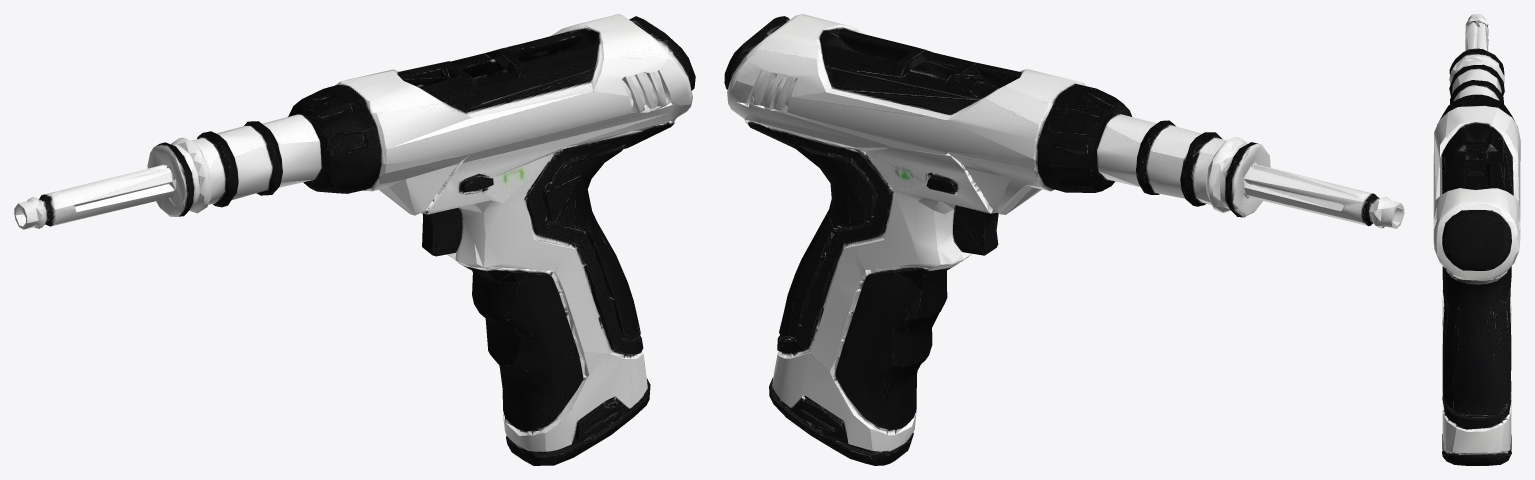
The model's file is w-toolgun.glb.
3 renders of one model, left to right at view 1: azimuth 30°, elevation 25°; view 2: azimuth 150°, elevation 25°; view 3: azimuth 270°, elevation 25°, orthographic. The views are drawn at different scales.
Size of the model in its own units: 1.9 by 1.13 by 0.3057.
1 material, 1 textured.
